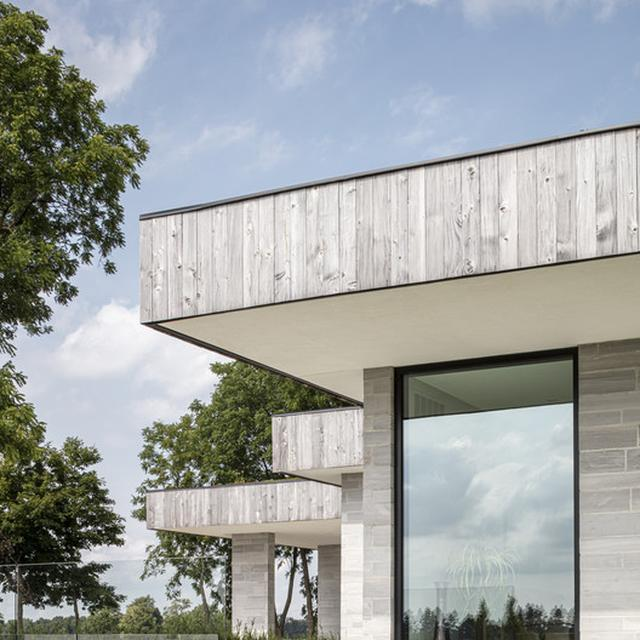building: (138, 121, 640, 640)
